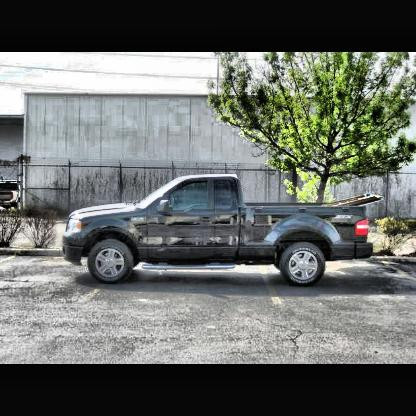Ford F-150 Regular Cab 2007: (64, 175, 374, 287)
